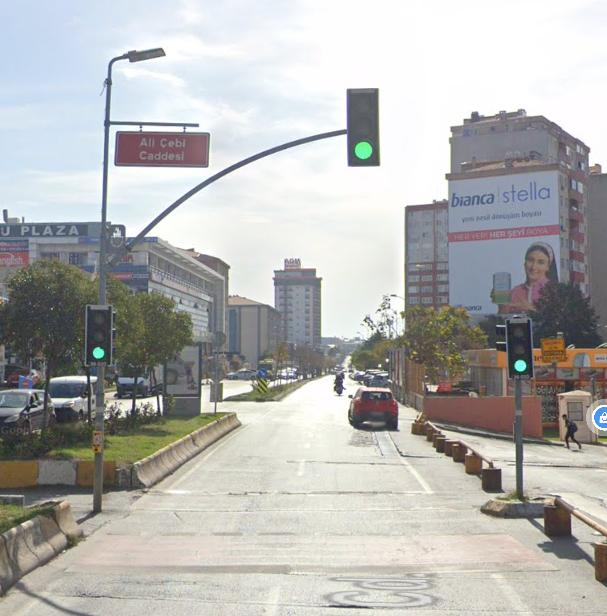greenlight: (346, 86, 380, 167), (506, 318, 533, 385), (84, 302, 111, 367)
